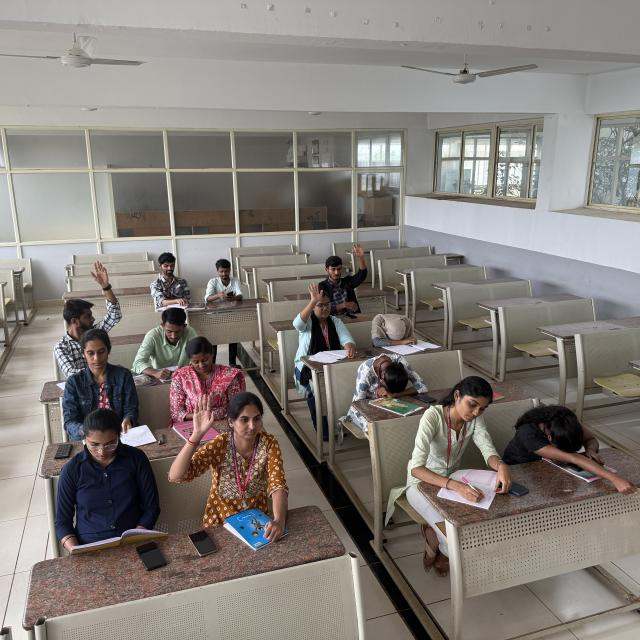Hand Rising: (170, 391, 286, 505), (58, 258, 119, 364), (294, 282, 352, 349), (320, 243, 374, 309)
Reading: (72, 410, 168, 546), (65, 327, 146, 444), (148, 249, 193, 310)
Sleeping: (515, 396, 600, 461), (359, 354, 423, 396), (369, 306, 414, 346)
Using Phone: (205, 260, 243, 303)
Writing: (437, 374, 498, 509), (133, 308, 195, 378)
